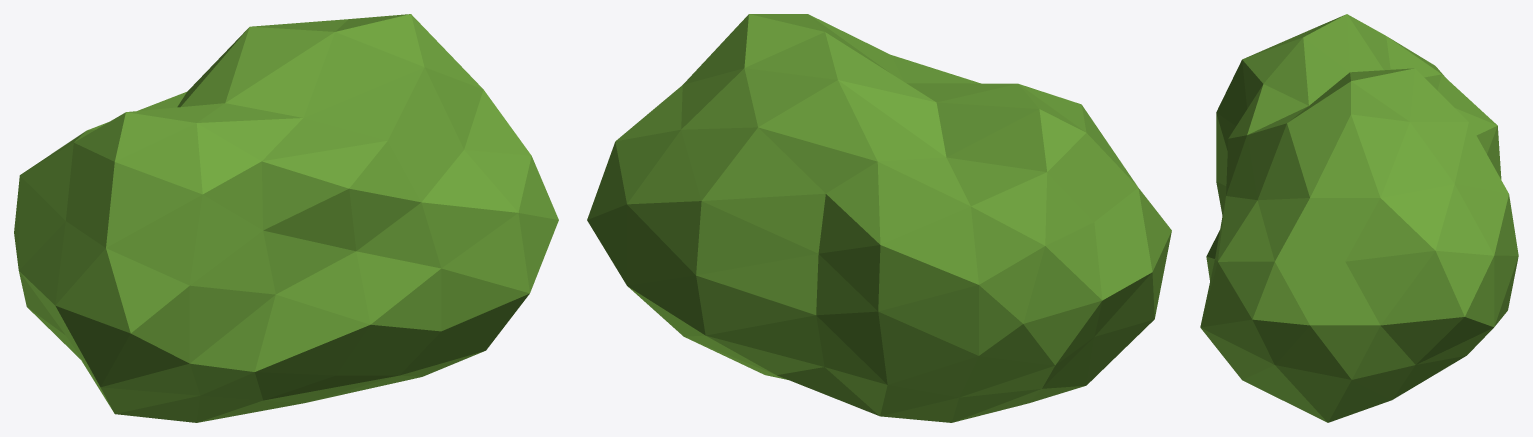
File: Busch groß.fbx
3 views of the same model, side by side, from view 1: azimuth 30°, elevation 25°; view 2: azimuth 150°, elevation 25°; view 3: azimuth 270°, elevation 25° (orthographic). The views are drawn at different scales.
Visible parts, largest first — view 1: Busch_I; view 2: Busch_I; view 3: Busch_I.
Boxes of the visible parts, x1,y1,x2,y2 form: Busch_I: [14, 14, 558, 422]; Busch_I: [587, 14, 1171, 422]; Busch_I: [1200, 14, 1518, 422].
Size of the model in its own units: 213 by 141 by 137.
